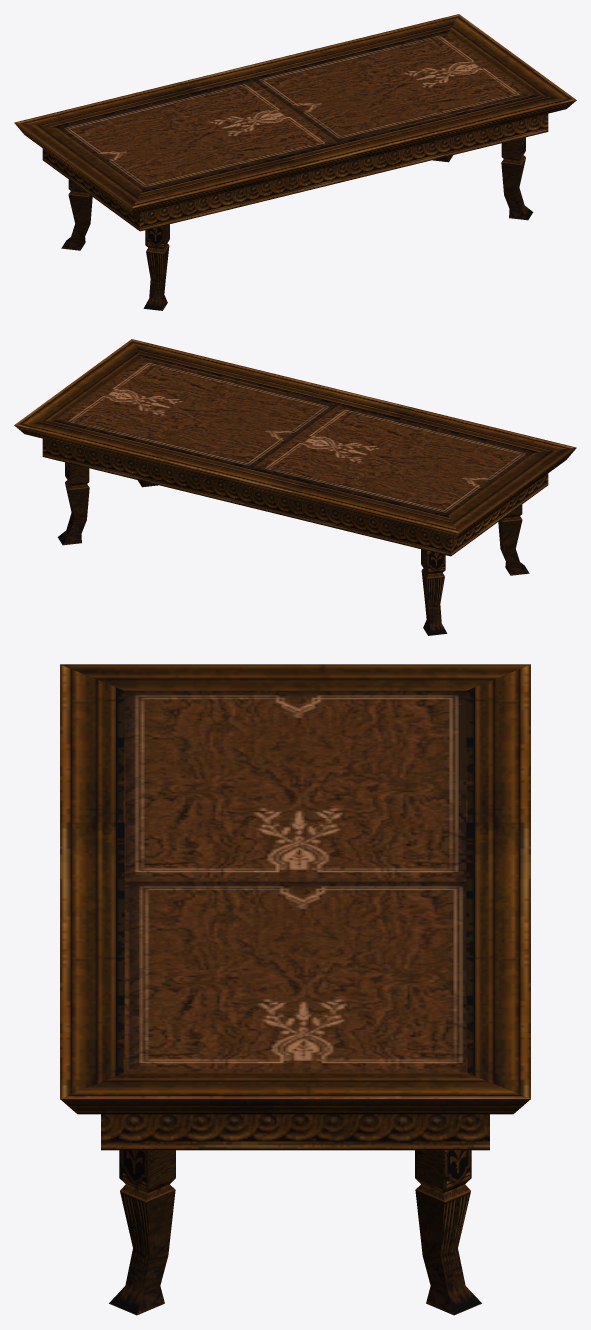
The model's file is coffee_table_slum.fbx.
3 renders of one model, top to bottom at view 1: azimuth 30°, elevation 25°; view 2: azimuth 150°, elevation 25°; view 3: azimuth 270°, elevation 25°, orthographic. The views are drawn at different scales.
Parts seen in each view (by area): view 1: mesh_0; view 2: mesh_0; view 3: mesh_0.
Part boxes in pixels (bbox=[...]): mesh_0: bbox=[14, 14, 576, 310]; mesh_0: bbox=[14, 339, 576, 635]; mesh_0: bbox=[60, 664, 530, 1315].
Size of the model in its own units: 175 by 45 by 80.
Materials: 1 (1 with a texture image).
